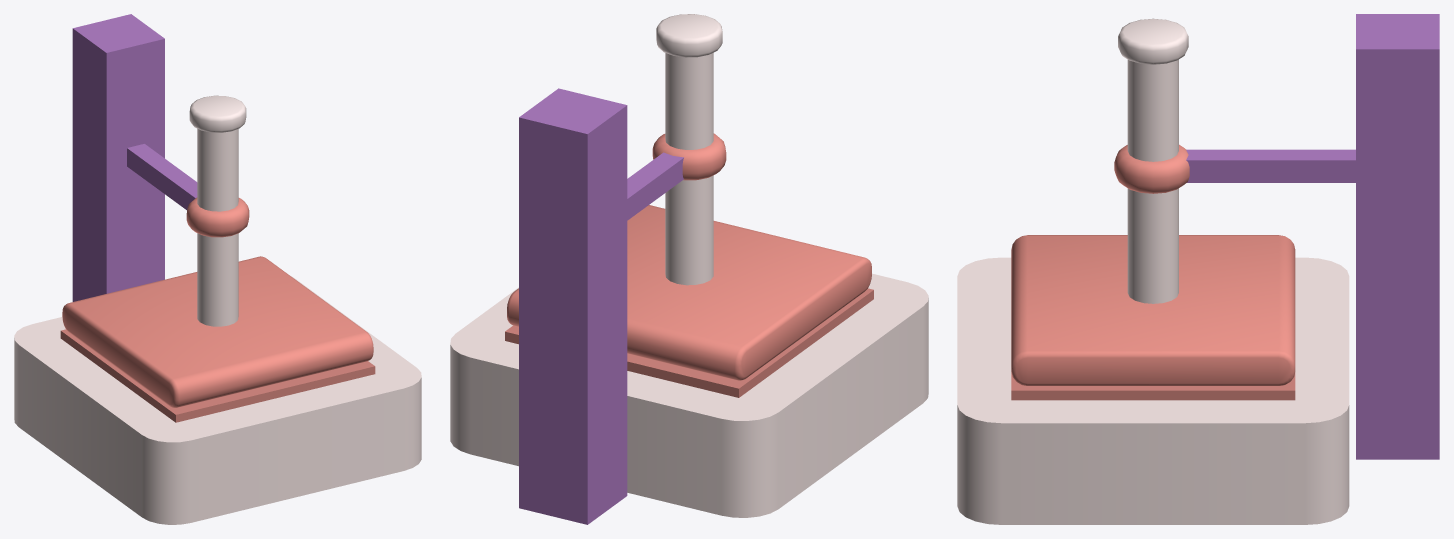
File: press.fbx
The picture shows the model from 3 angles, left to right: view 1: azimuth 30°, elevation 25°; view 2: azimuth 150°, elevation 25°; view 3: azimuth 270°, elevation 25°; orthographic projection. The views are drawn at different scales.
Parts seen in each view (by area): view 1: press.002, press, press.001; view 2: press.002, press.001, press; view 3: press.002, press, press.001.
Boxes of the visible parts, x1,y1,x2,y2 form: press.002: (14, 276, 421, 524); press: (62, 95, 373, 407); press.001: (72, 14, 164, 301); press.002: (450, 273, 928, 517); press.001: (519, 88, 627, 524); press: (507, 14, 871, 380); press.002: (957, 257, 1349, 524); press: (1011, 18, 1355, 385); press.001: (1356, 14, 1439, 459).
Bounding box in the file's own units: 2.45 × 2.83 × 3.01.
